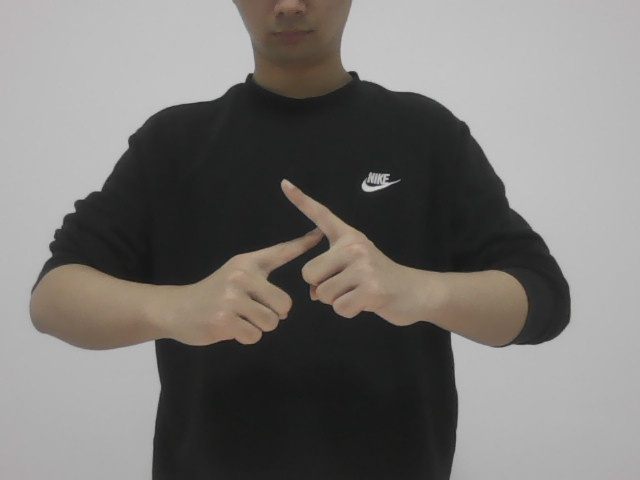peason: (202, 171, 406, 350)
